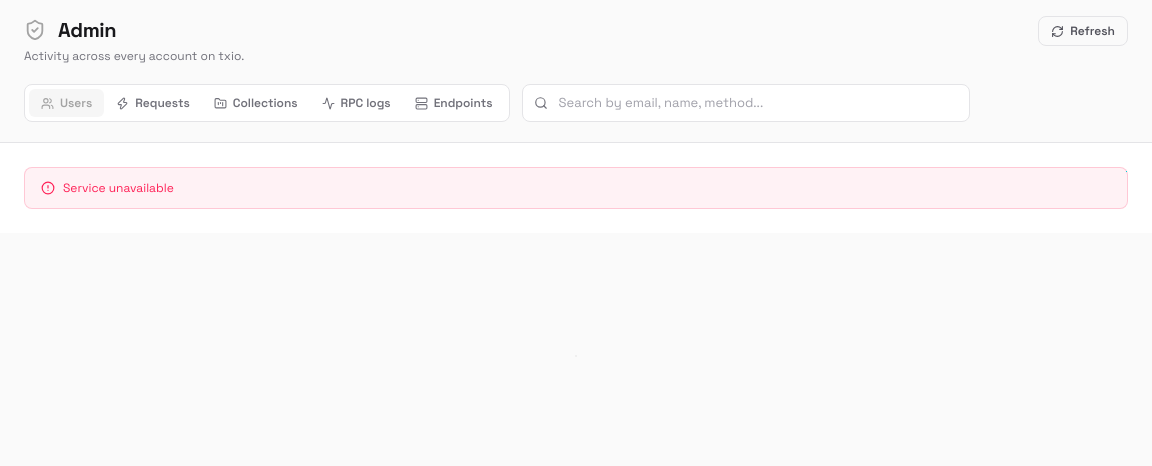
Test case: AdminPage › shows the error and retries on refresh for other failures
Expected: the text "Service unavailable" is shown, [24,167,1128,209]
Click the button "Refresh" at (1083, 31), box [1038,16,1128,46]
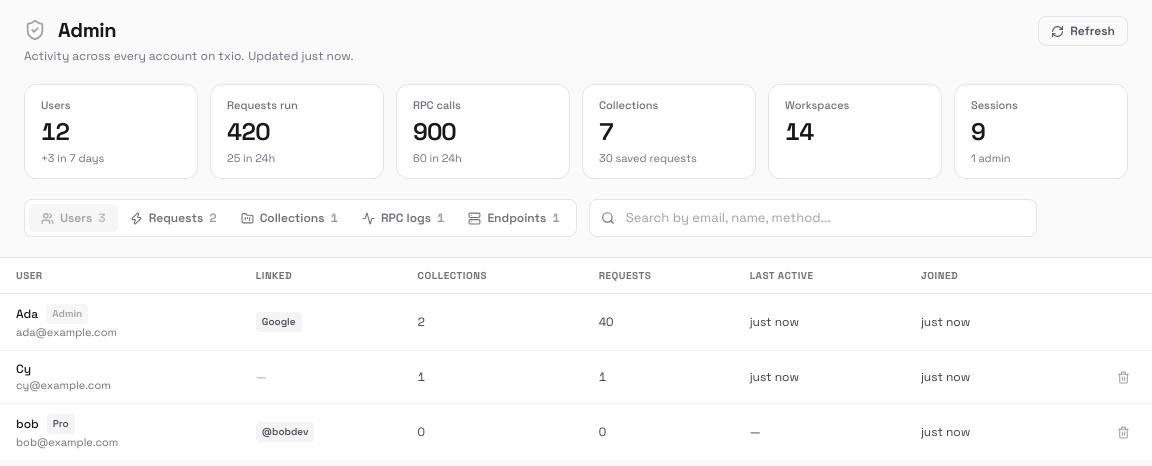
Now the text "ada@example.com" is shown, box [16,325,117,339]
Now the text "Service unavailable" is gone
